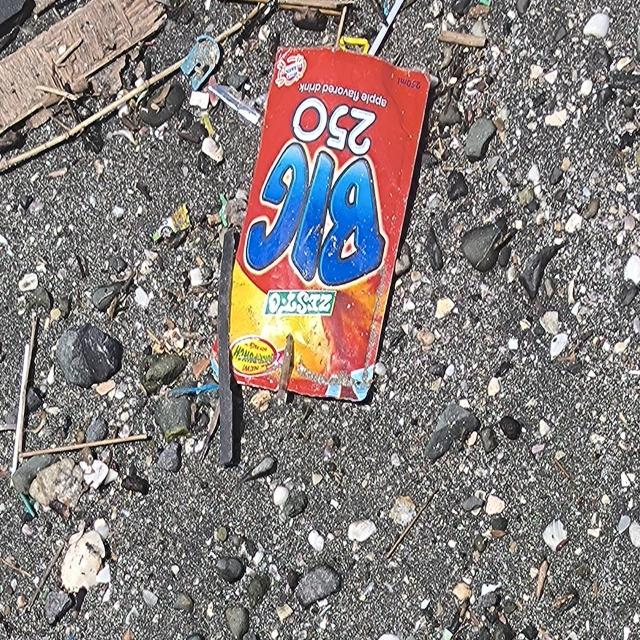plastic_waste: (229, 43, 433, 405)
